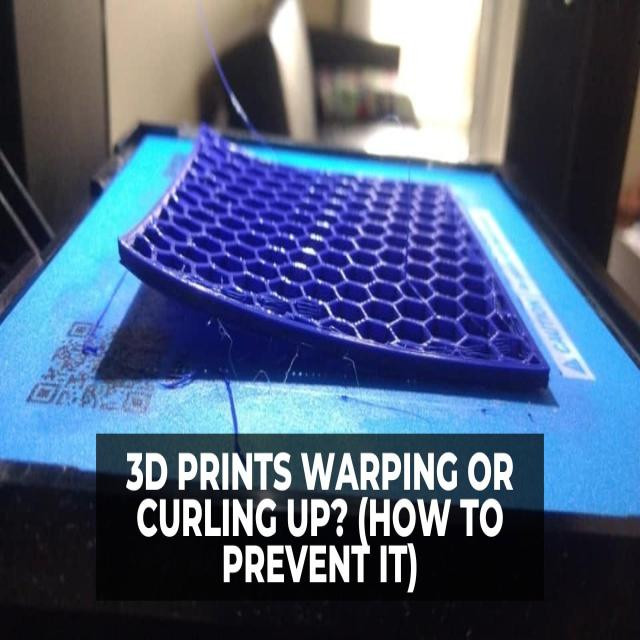Warping: (93, 244, 423, 400)
